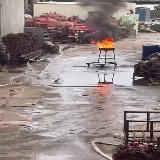fire: (92, 37, 114, 48)
